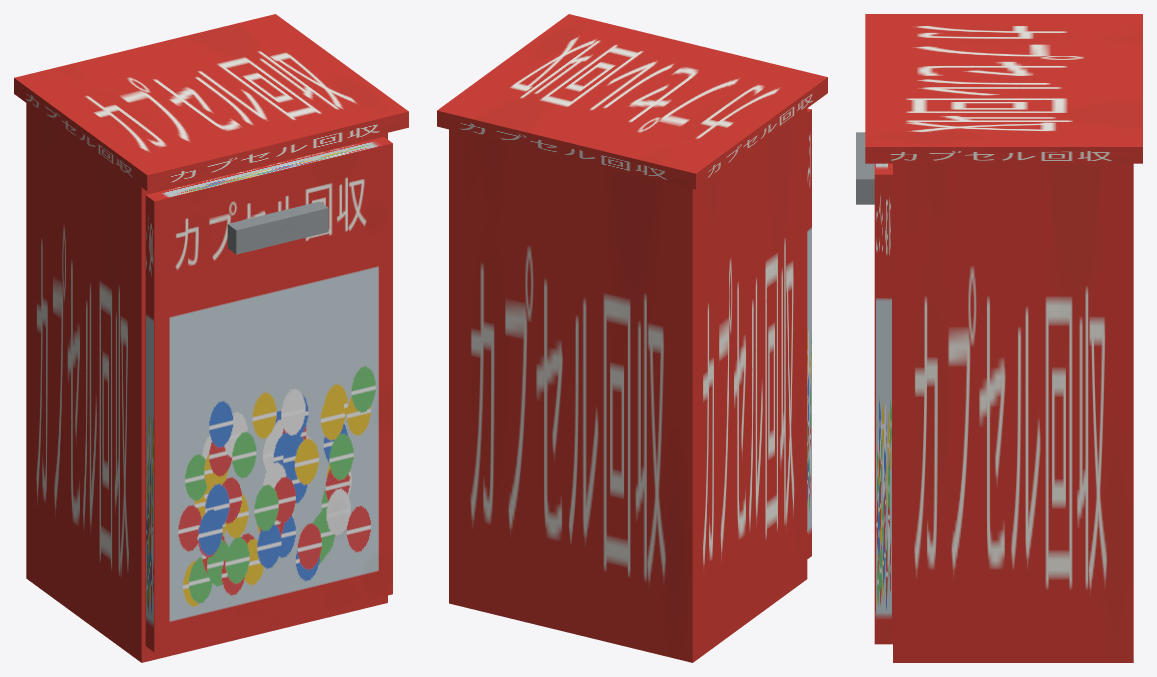
The model's file is capsulereturn.glb.
The picture shows the model from 3 angles, left to right: view 1: azimuth 30°, elevation 25°; view 2: azimuth 150°, elevation 25°; view 3: azimuth 270°, elevation 25°; orthographic projection. The views are drawn at different scales.
Visible parts, largest first — view 1: capsulereturn; view 2: capsulereturn; view 3: capsulereturn.
Part boxes in pixels (left/top/right/bottom): capsulereturn: left=14, top=14, right=408, bottom=662; capsulereturn: left=437, top=14, right=827, bottom=662; capsulereturn: left=856, top=14, right=1142, bottom=662.
Bounding box in the file's own units: 0.34 × 0.62 × 0.31.
1 material, 1 textured.
